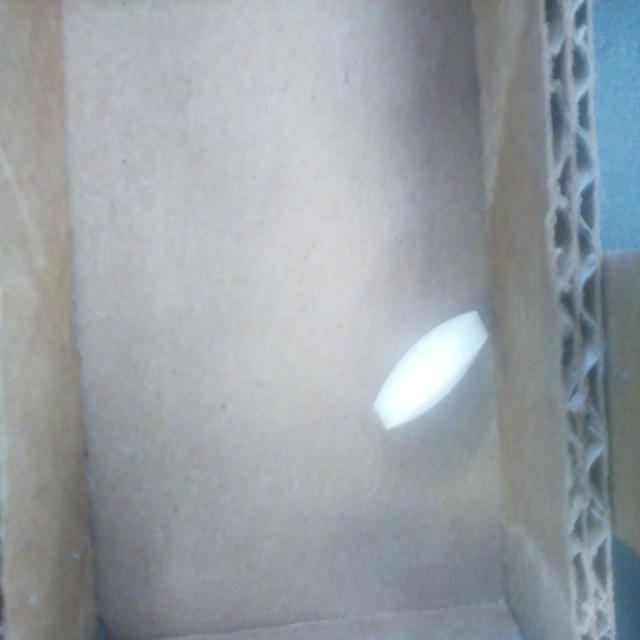pill: (371, 311, 488, 431)
